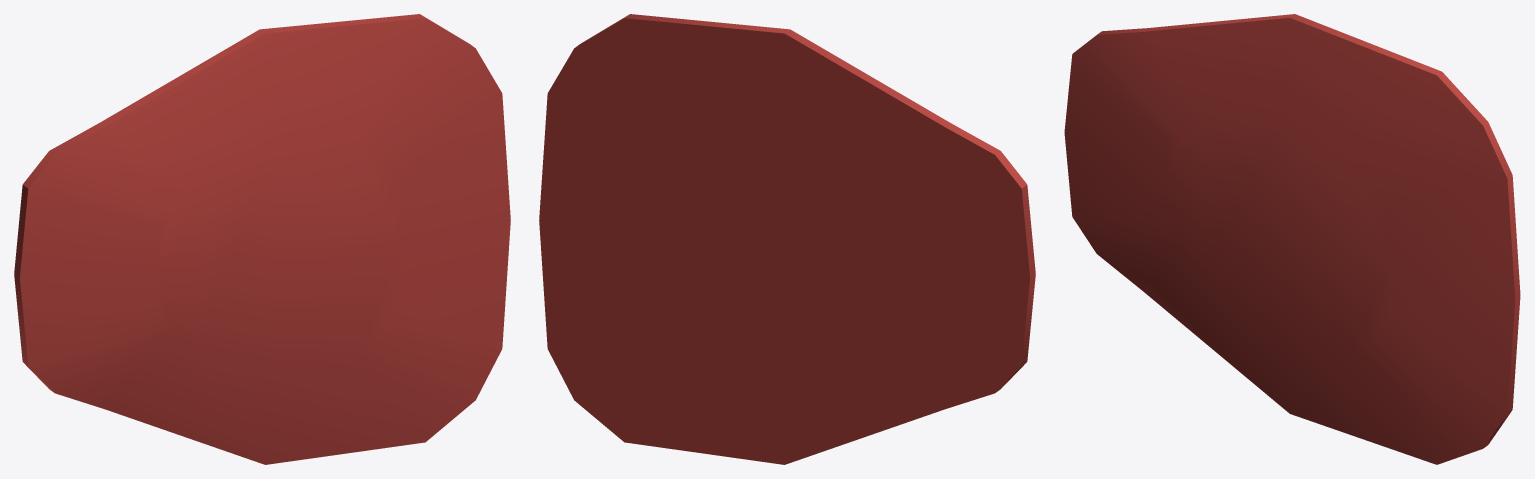
The model's file is triangle_lod2.glb.
3 renders of one model, left to right at view 1: azimuth 30°, elevation 25°; view 2: azimuth 150°, elevation 25°; view 3: azimuth 330°, elevation 25°, orthographic. The views are drawn at different scales.
Parts seen in each view (by area): view 1: triangle_lod2; view 2: triangle_lod2; view 3: triangle_lod2.
Part boxes in pixels (left/top/right/bottom): triangle_lod2: left=14, top=14, right=510, bottom=464; triangle_lod2: left=539, top=14, right=1035, bottom=464; triangle_lod2: left=1064, top=14, right=1520, bottom=464.
Size of the model in its own units: 0.2 by 0.1744 by 0.013.
